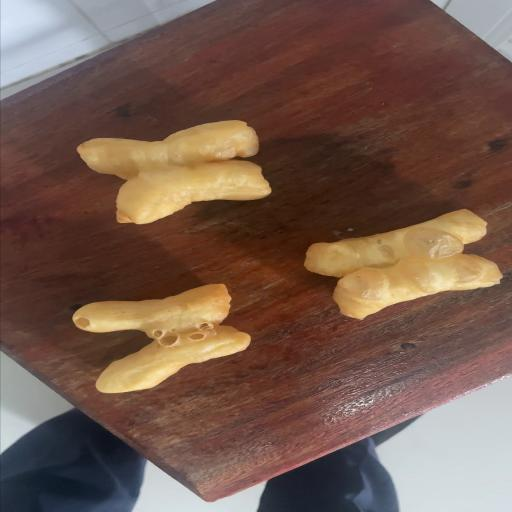street_golden_defect: (302, 210, 501, 319), (70, 286, 250, 392)
street_golden_good: (75, 120, 272, 223)
